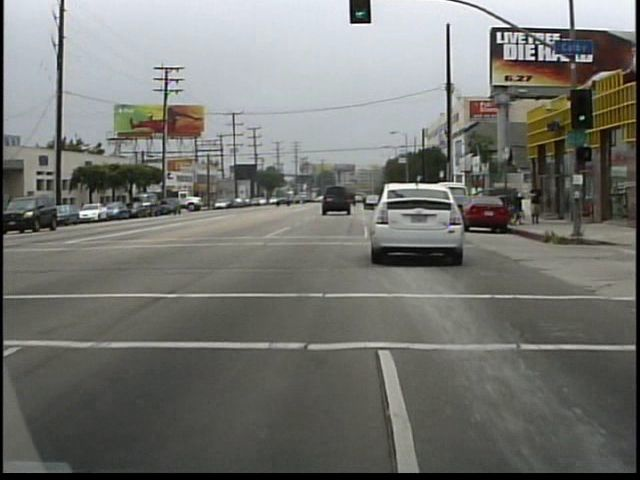person: (525, 178, 547, 231)
